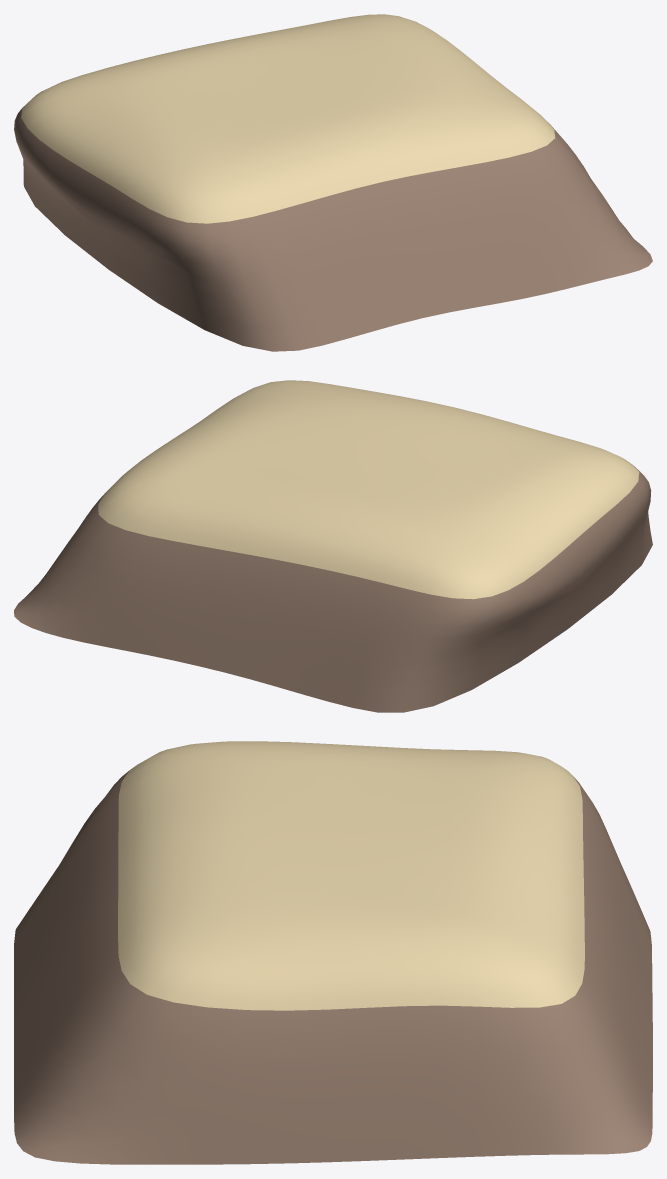
The model's file is Sand..fbx.
3 renders of one model, top to bottom at view 1: azimuth 30°, elevation 25°; view 2: azimuth 150°, elevation 25°; view 3: azimuth 270°, elevation 25°, orthographic. The views are drawn at different scales.
Parts seen in each view (by area): view 1: Roundcube; view 2: Roundcube; view 3: Roundcube.
Boxes of the visible parts, x1=… form: Roundcube: x1=14, y1=14, x2=652, y2=351; Roundcube: x1=14, y1=380, x2=652, y2=712; Roundcube: x1=14, y1=741, x2=652, y2=1164.
Bounding box in the file's own units: 43834 × 13102 × 42270.
